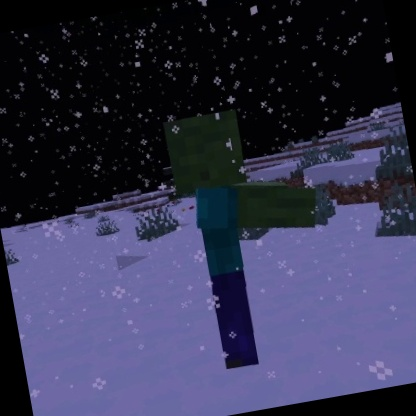zombie: (155, 90, 349, 380)
